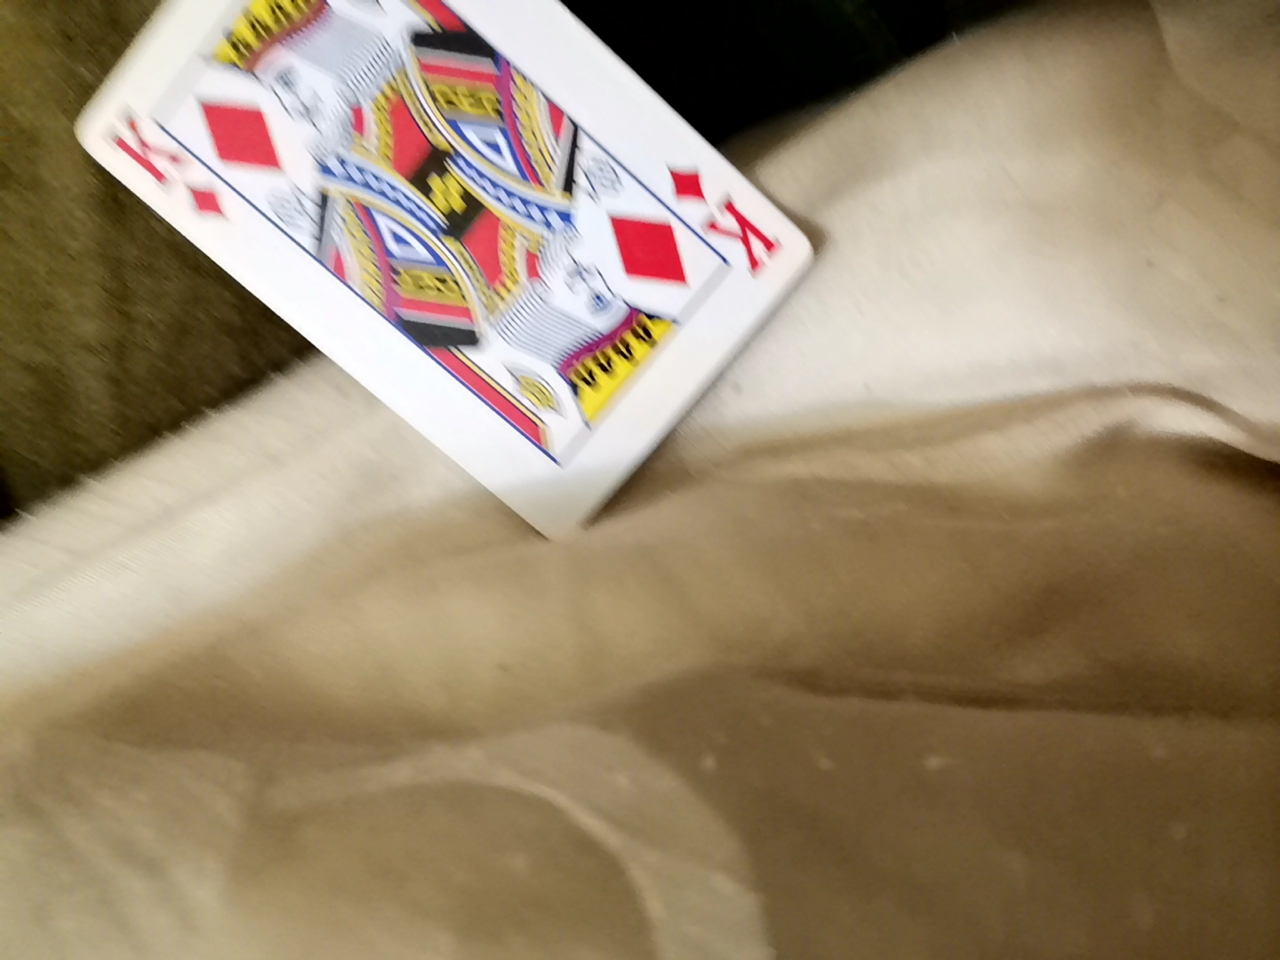fk k: (103, 0, 852, 461)
